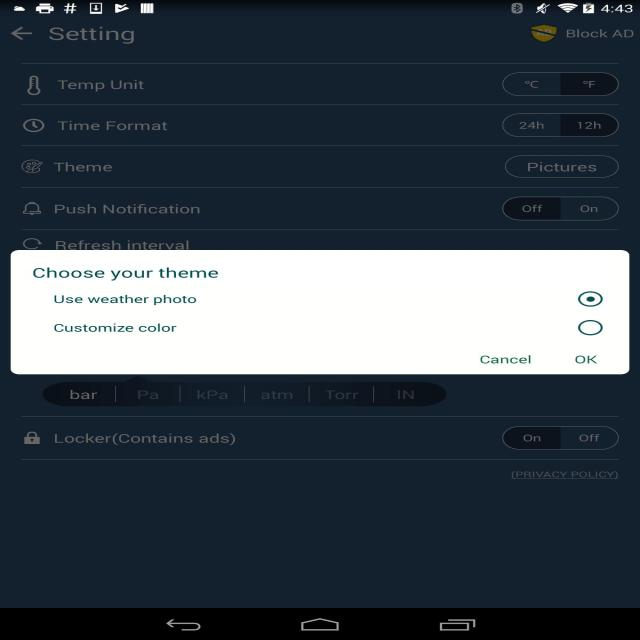button: (42, 382, 446, 410), (499, 70, 619, 101), (499, 112, 622, 142), (504, 153, 620, 182), (505, 195, 620, 224), (506, 426, 620, 454), (529, 24, 640, 48), (474, 349, 544, 371), (564, 349, 606, 368), (6, 25, 36, 47), (577, 289, 603, 309), (577, 319, 604, 337)
heading: (31, 264, 221, 282)
image: (21, 116, 46, 136), (20, 157, 43, 177), (22, 429, 42, 450), (27, 70, 42, 98), (24, 200, 44, 220), (22, 238, 42, 251)
link: (510, 469, 619, 480)
text: (51, 432, 238, 448), (53, 202, 201, 218), (51, 292, 200, 306), (54, 239, 192, 254), (56, 119, 170, 135), (50, 322, 178, 335), (56, 77, 146, 94), (52, 160, 118, 176)
